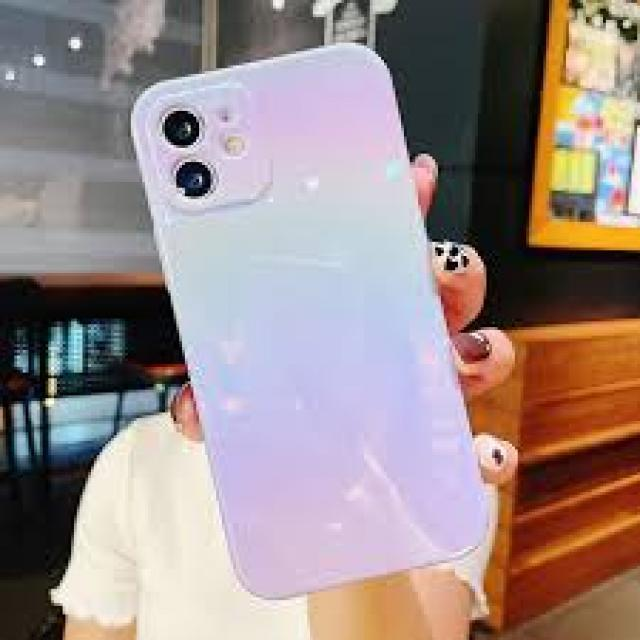phone: (127, 38, 496, 604)
